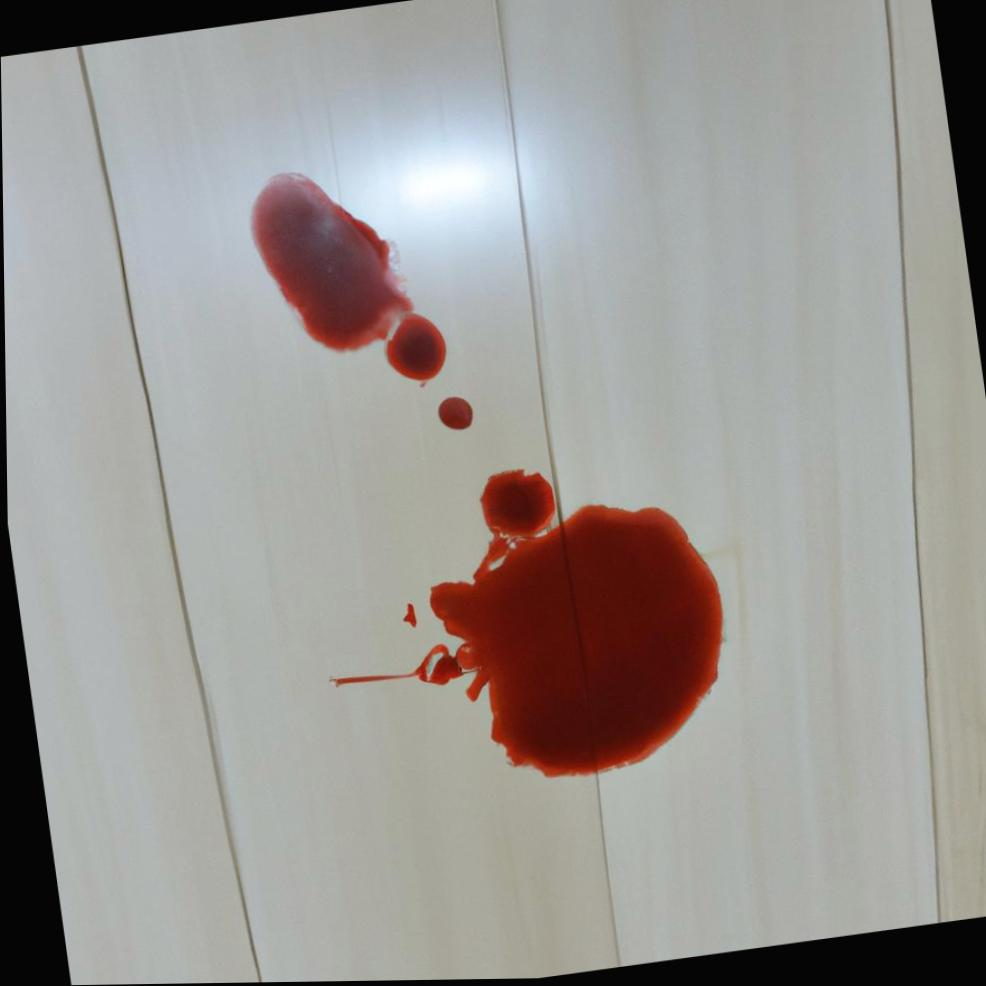Fire: (327, 471, 722, 780), (248, 173, 446, 389), (437, 398, 473, 432)
